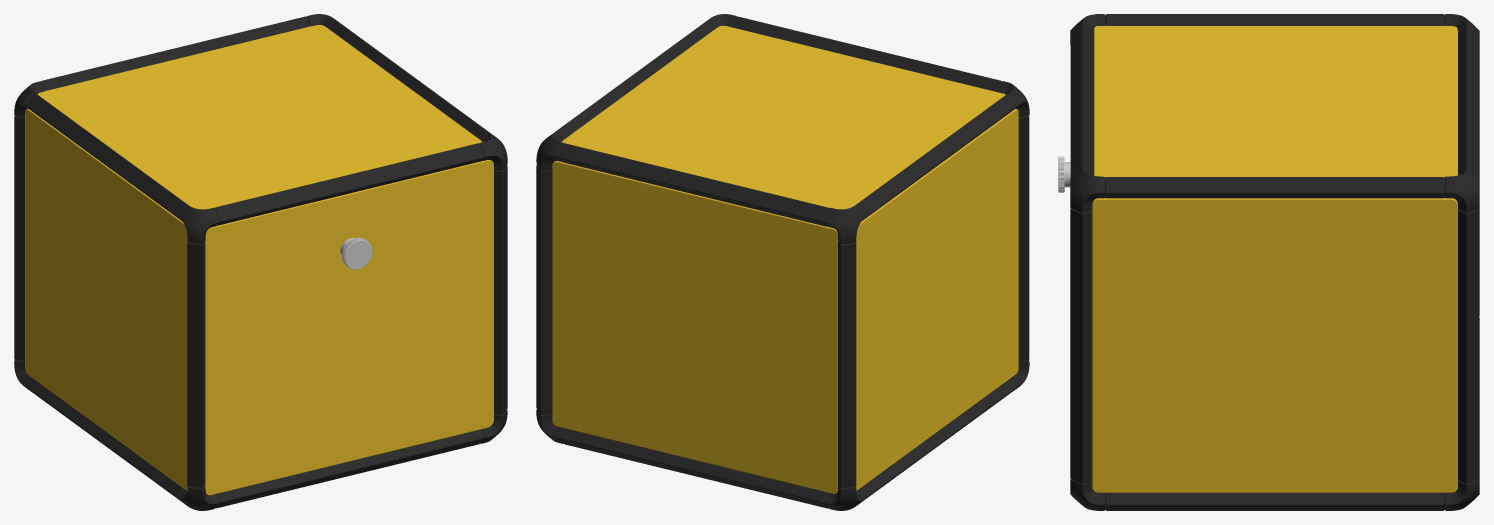
The picture shows the model from 3 angles, left to right: view 1: azimuth 30°, elevation 25°; view 2: azimuth 150°, elevation 25°; view 3: azimuth 270°, elevation 25°; orthographic projection. The views are drawn at different scales.
Visible parts, largest first — view 1: 374x374x329; view 2: 374x374x329; view 3: 374x374x329.
Boxes of the visible parts, left/top/right/bottom form: 374x374x329: left=14, top=14, right=507, bottom=510; 374x374x329: left=536, top=14, right=1029, bottom=510; 374x374x329: left=1058, top=14, right=1479, bottom=510.
Bounding box in the file's own units: 0.4517 × 0.4066 × 0.4646.
